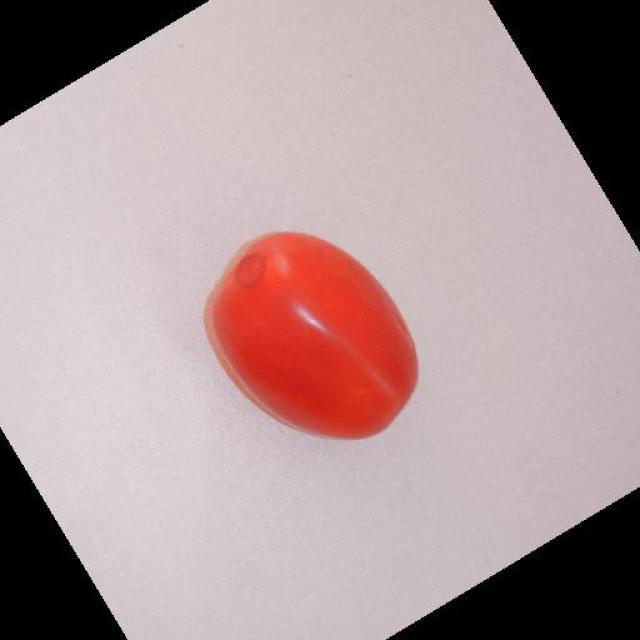Fresh_tomato: (192, 227, 420, 445)
